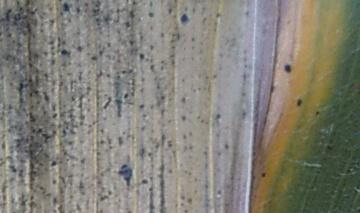tarspot: (119, 164, 132, 185), (179, 14, 189, 24), (62, 1, 70, 12), (284, 63, 292, 73), (295, 97, 303, 107), (60, 48, 70, 56), (138, 53, 146, 61), (140, 178, 149, 185), (50, 159, 57, 168), (259, 171, 267, 178), (122, 92, 129, 99), (315, 108, 320, 117)
